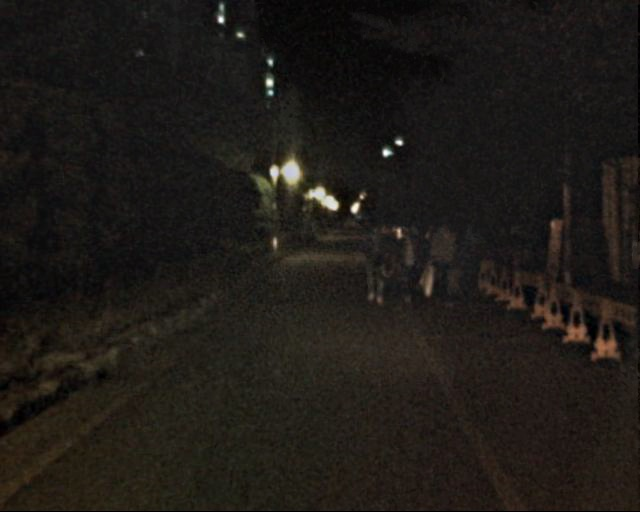person: (619, 242, 640, 412), (425, 216, 463, 309), (356, 223, 389, 304), (387, 225, 418, 300), (455, 218, 486, 293), (403, 223, 433, 295)
